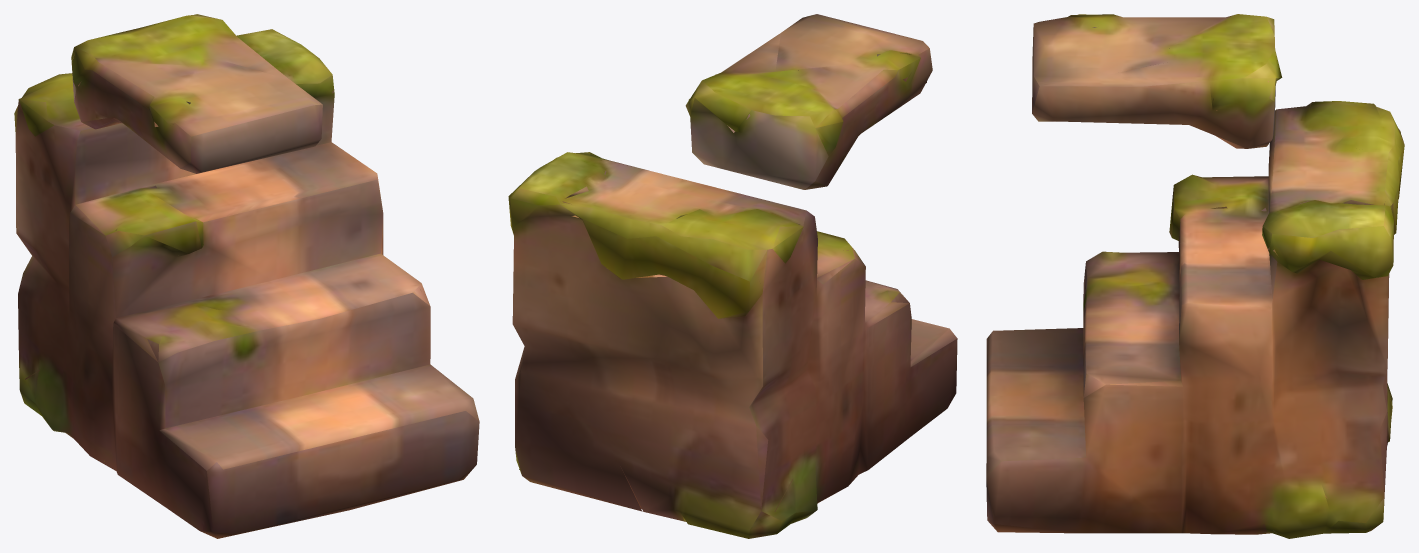
The model's file is sz-stairs.glb.
3 renders of one model, left to right at view 1: azimuth 30°, elevation 25°; view 2: azimuth 150°, elevation 25°; view 3: azimuth 270°, elevation 25°, orthographic. The views are drawn at different scales.
Parts seen in each view (by area): view 1: geometry_0; view 2: geometry_0; view 3: geometry_0.
Part boxes in pixels (left/top/right/bottom): geometry_0: left=14, top=14, right=479, bottom=538; geometry_0: left=508, top=14, right=957, bottom=538; geometry_0: left=986, top=14, right=1404, bottom=538.
Size of the model in its own units: 0.7315 by 1 by 0.943.
Materials: 1 (1 with a texture image).
